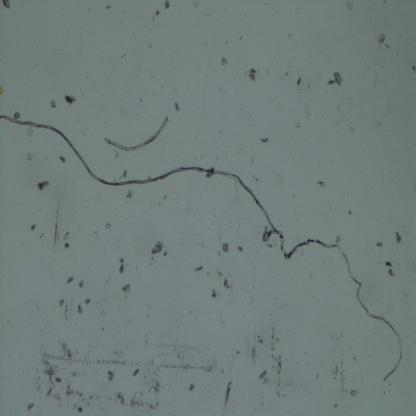Background material: (26, 347, 86, 414), (104, 364, 163, 412), (268, 326, 287, 398), (330, 341, 348, 396), (163, 357, 214, 373), (327, 70, 343, 88), (260, 225, 274, 243), (249, 337, 258, 362), (36, 177, 51, 192), (246, 68, 260, 84), (224, 382, 234, 404), (378, 33, 390, 51), (63, 93, 77, 107), (258, 370, 272, 383), (385, 260, 395, 278), (62, 230, 71, 250), (117, 256, 125, 275), (221, 240, 231, 255), (0, 0, 16, 9), (152, 242, 163, 255), (49, 97, 58, 112), (394, 230, 403, 245), (350, 386, 360, 399), (122, 282, 132, 294), (125, 189, 135, 201), (223, 278, 232, 291), (345, 0, 354, 13), (66, 272, 74, 286), (295, 76, 303, 90), (162, 0, 172, 11), (25, 151, 34, 163), (408, 61, 416, 74), (317, 180, 327, 190), (219, 57, 228, 68), (76, 304, 84, 316), (26, 126, 34, 138), (77, 278, 85, 290), (103, 220, 112, 230), (260, 135, 270, 144), (29, 222, 37, 233), (58, 296, 66, 307), (120, 51, 128, 62), (209, 288, 217, 299), (194, 266, 204, 274), (375, 240, 383, 250), (188, 382, 195, 392), (13, 110, 20, 120), (58, 156, 66, 164), (83, 298, 91, 306), (174, 102, 180, 112), (258, 336, 264, 345), (336, 236, 342, 244), (154, 8, 160, 16), (121, 169, 126, 178), (240, 246, 245, 254)
Cotton: (0, 115, 403, 383), (103, 116, 170, 154)
